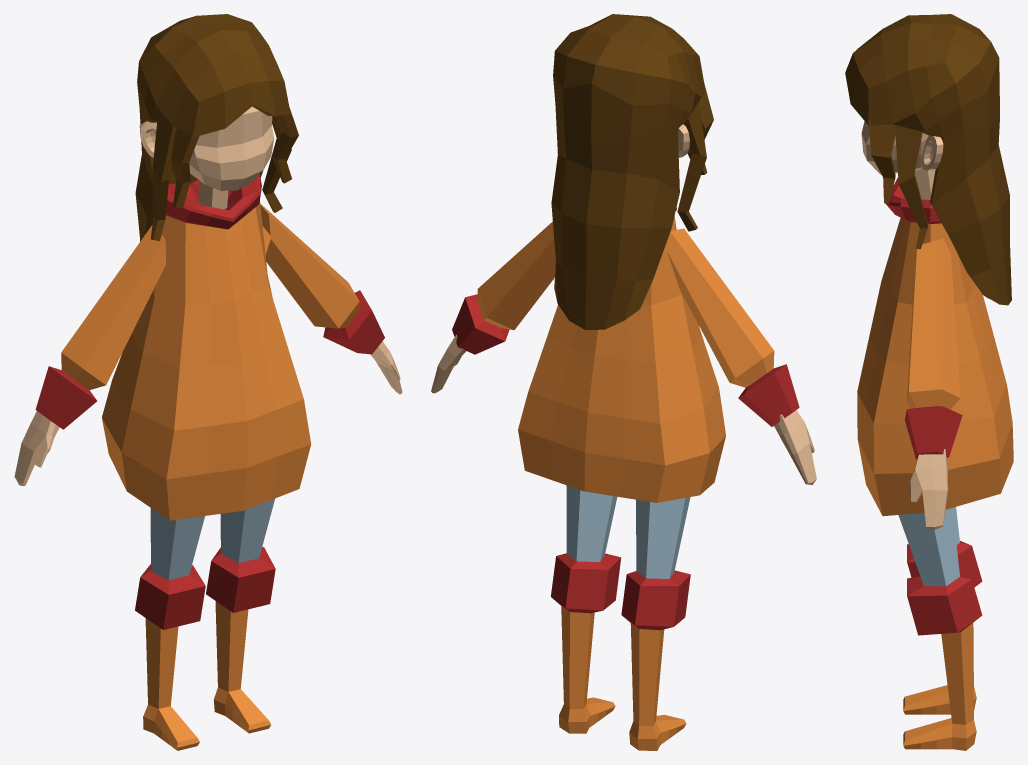
File: girl1.fbx
3 views of the same model, side by side, from view 1: azimuth 30°, elevation 25°; view 2: azimuth 150°, elevation 25°; view 3: azimuth 270°, elevation 25° (orthographic).
Parts seen in each view (by area): view 1: body, hair, leg, arm, head; view 2: hair, body, leg, arm; view 3: hair, body, leg, arm, head, ears, neck.
Boxes of the visible parts, <box> form: body: <box>102,174,311,520</box>; hair: <box>135,14,298,241</box>; leg: <box>135,498,275,750</box>; arm: <box>14,204,402,486</box>; head: <box>189,106,274,190</box>; hair: <box>551,14,713,330</box>; body: <box>518,207,725,502</box>; leg: <box>551,485,690,750</box>; arm: <box>431,221,816,485</box>; hair: <box>845,14,1011,305</box>; body: <box>857,177,1013,516</box>; leg: <box>898,507,982,750</box>; arm: <box>905,239,962,530</box>; head: <box>861,121,940,174</box>; ears: <box>921,135,943,170</box>; neck: <box>914,169,935,199</box>.
Size of the model in its own units: 213 by 378 by 82.12.
